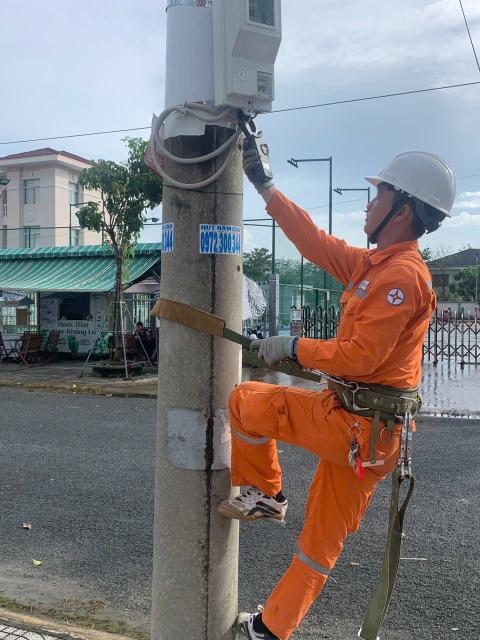gloves: (256, 324, 307, 367), (237, 136, 278, 189)
harness: (310, 365, 426, 428)
helmet: (357, 146, 471, 220)
shoes: (214, 481, 299, 523), (238, 604, 297, 640)
